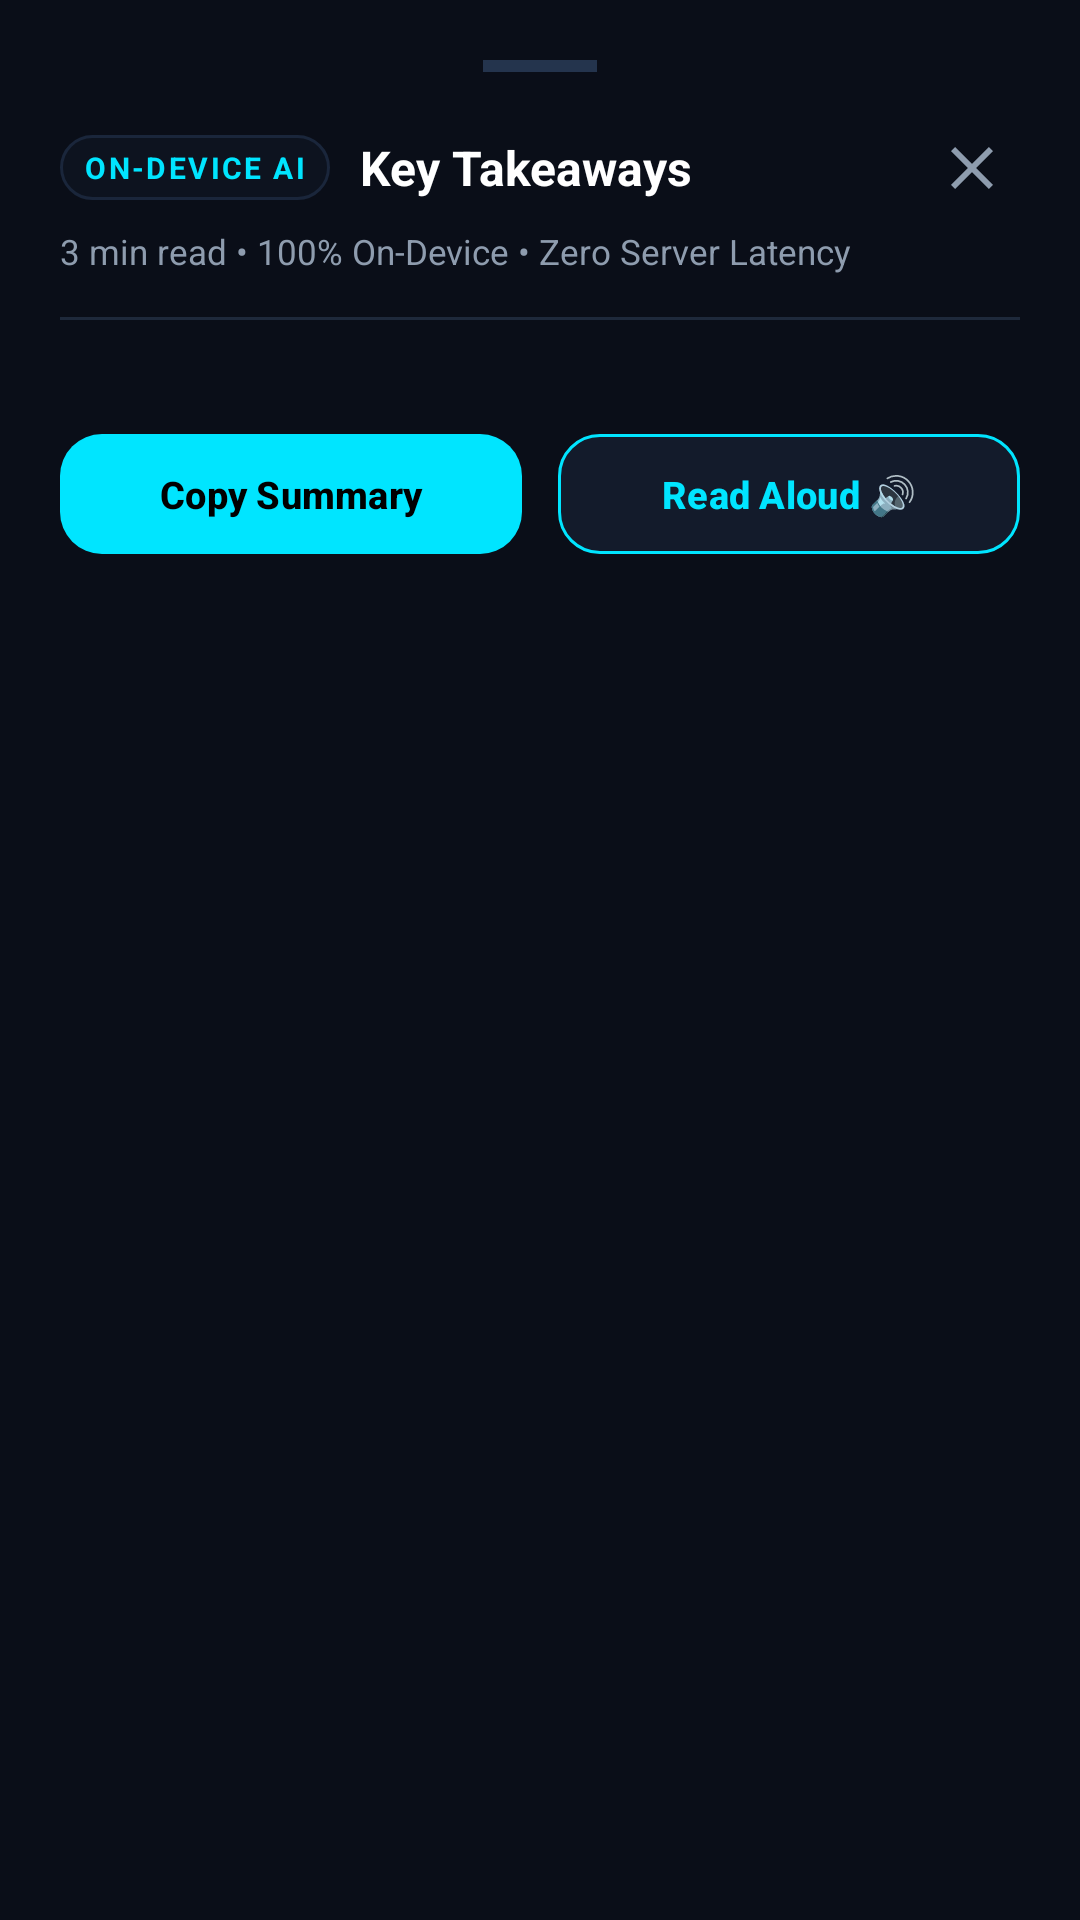

Named icons in this screenshot (1080×1920) and their centers, [x,y]:
Close: [972,168]
